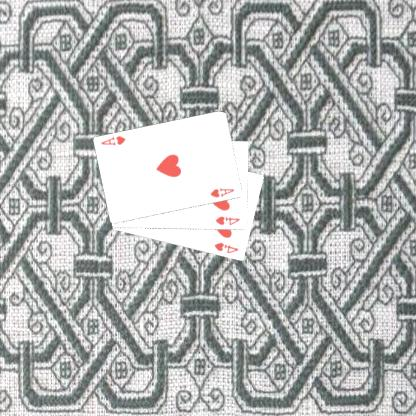4H: (214, 240, 242, 255), (214, 214, 242, 226)
AH: (100, 133, 129, 148), (210, 185, 238, 199)
